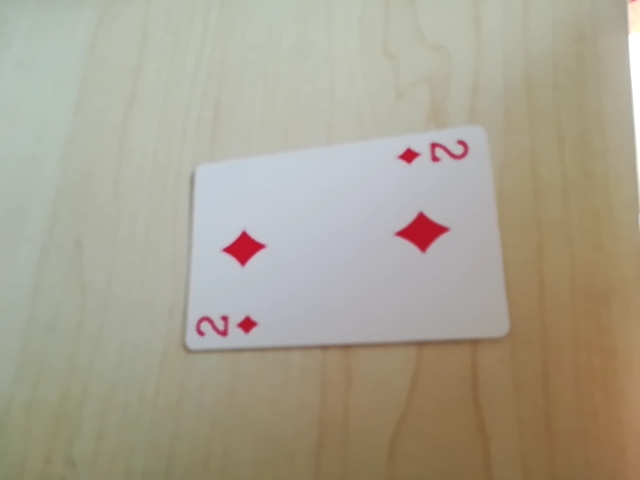fk 2: (393, 132, 476, 175), (193, 307, 265, 348)
